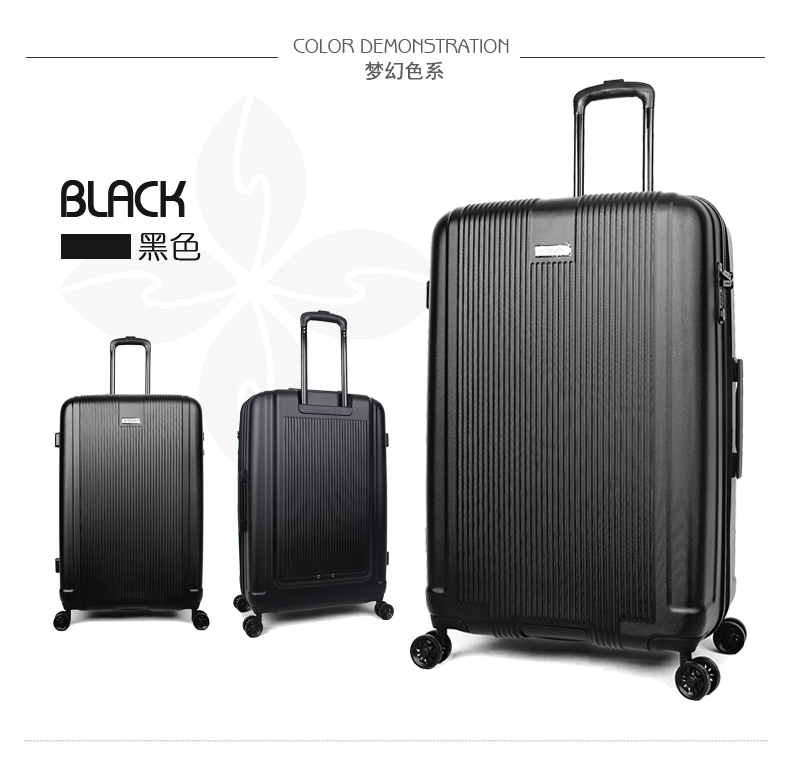luggage: (406, 79, 750, 703), (230, 308, 394, 641), (49, 334, 213, 635)
